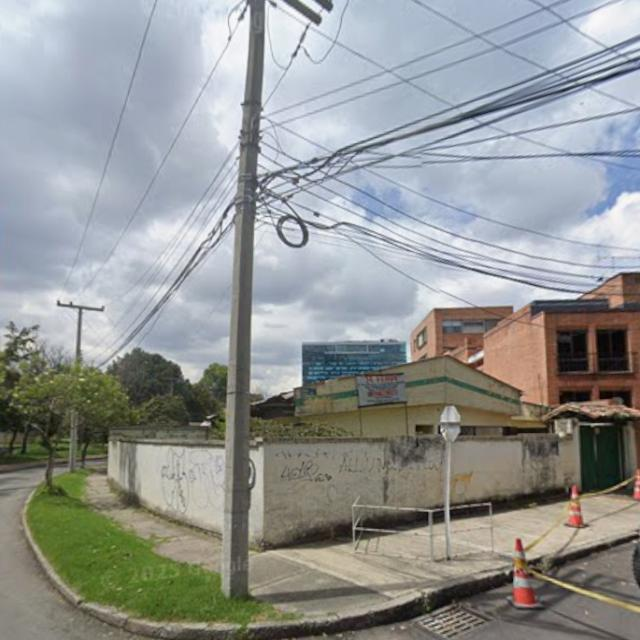fachada: (482, 274, 639, 406), (296, 356, 545, 437), (544, 399, 639, 491), (411, 306, 512, 363), (302, 340, 406, 385)
poste: (222, 0, 265, 597), (57, 302, 104, 364), (444, 441, 452, 560)
